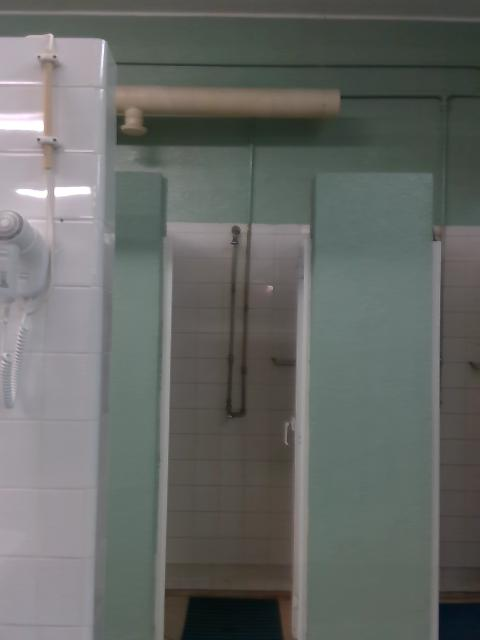open_door: (159, 171, 309, 638)
